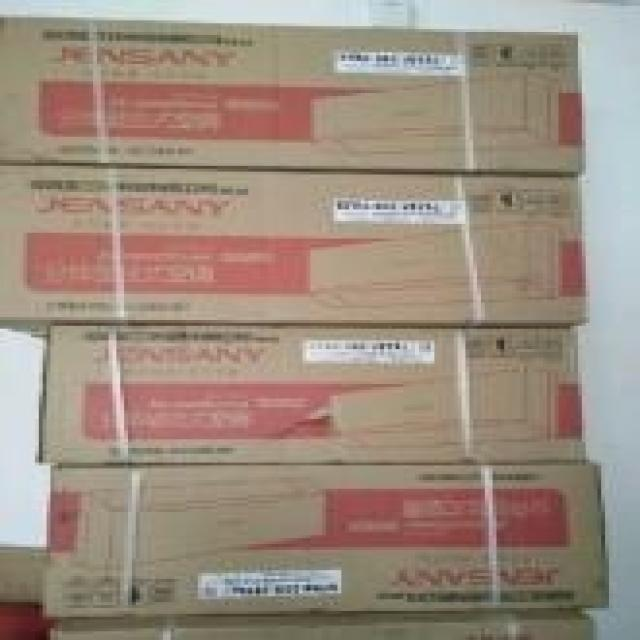box: (0, 161, 588, 346), (1, 17, 584, 174), (43, 465, 608, 614), (37, 323, 587, 467), (50, 607, 597, 637), (2, 542, 47, 603)
